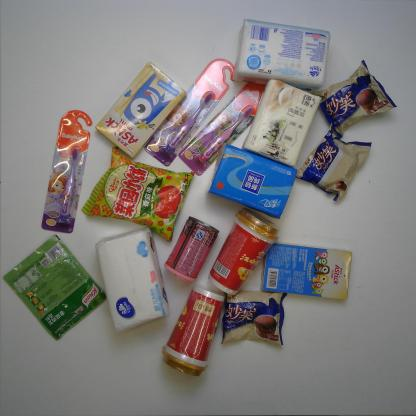Canned Food: (162, 214, 219, 284)
Dessert: (94, 60, 188, 159), (311, 58, 397, 142), (296, 122, 372, 204), (259, 241, 353, 301), (220, 289, 288, 347)
Instant Drink: (207, 205, 280, 296), (160, 283, 226, 378)
Personal Hygiene: (143, 58, 235, 167), (178, 80, 266, 178), (40, 109, 93, 235)
Puffed Food: (80, 144, 198, 244)
Seasoner: (1, 231, 107, 343)
Tissue: (93, 225, 172, 334), (241, 77, 323, 170), (205, 142, 299, 220), (231, 18, 332, 90)
